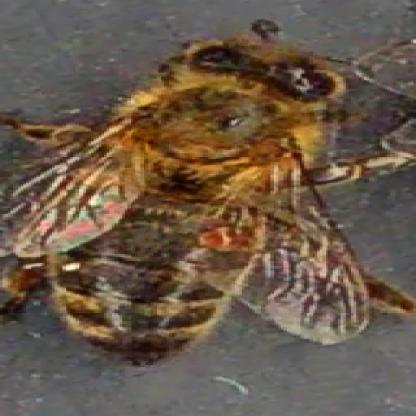bee: (27, 29, 378, 356)
vaoora: (197, 224, 254, 252)
